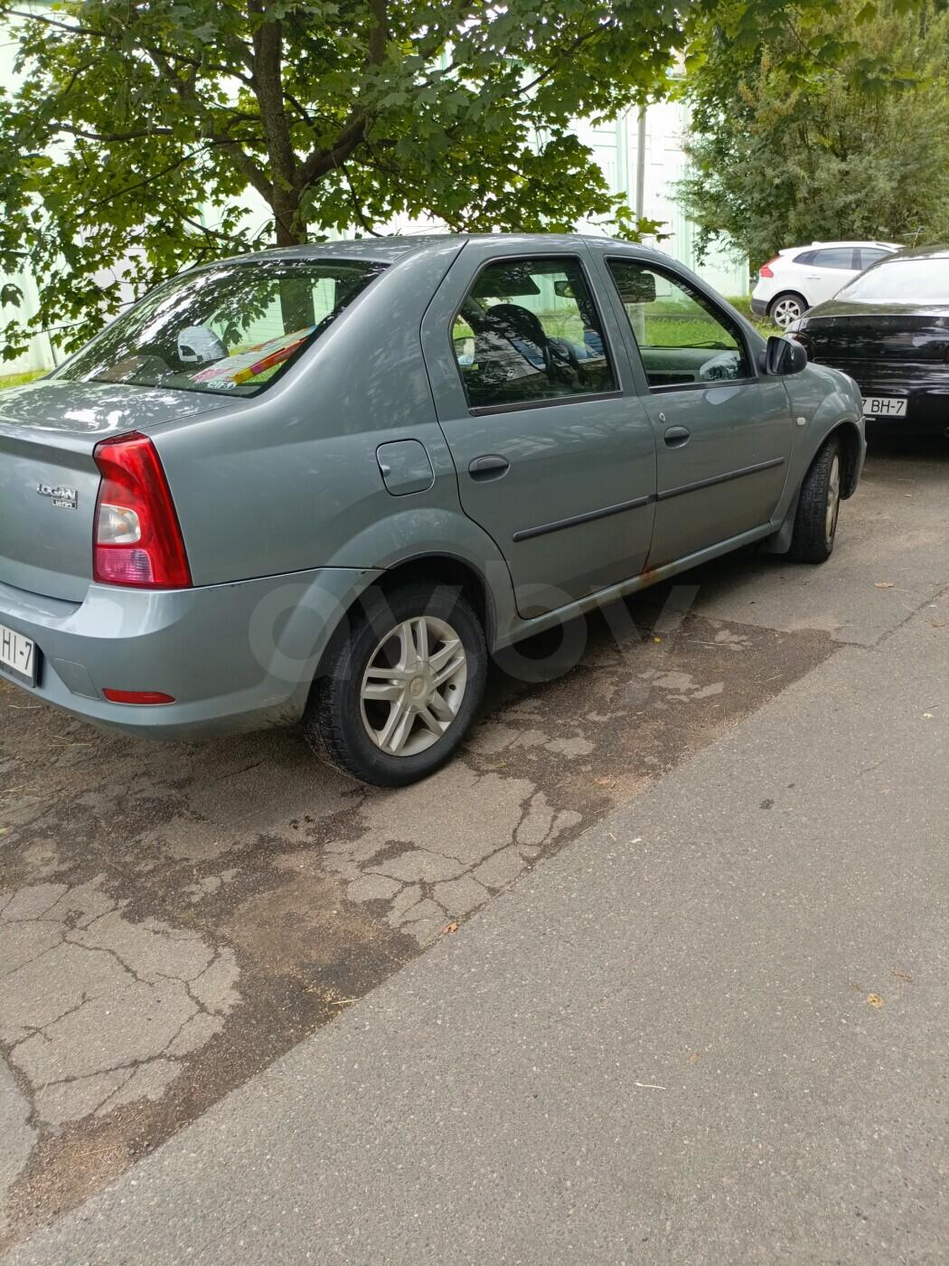Logan_2008-2015: (0, 233, 871, 789)
